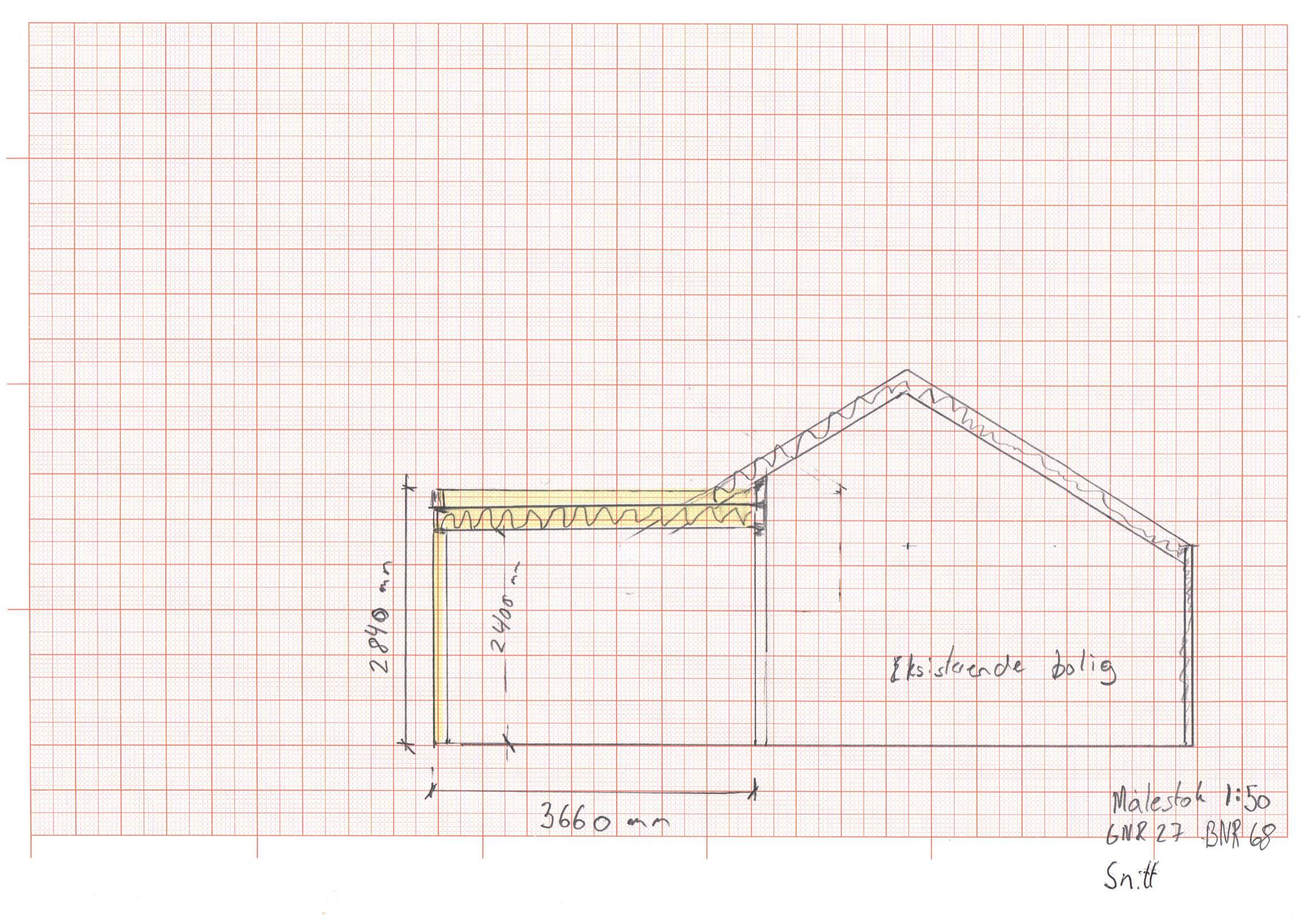snitt: (433, 368, 1200, 747)
